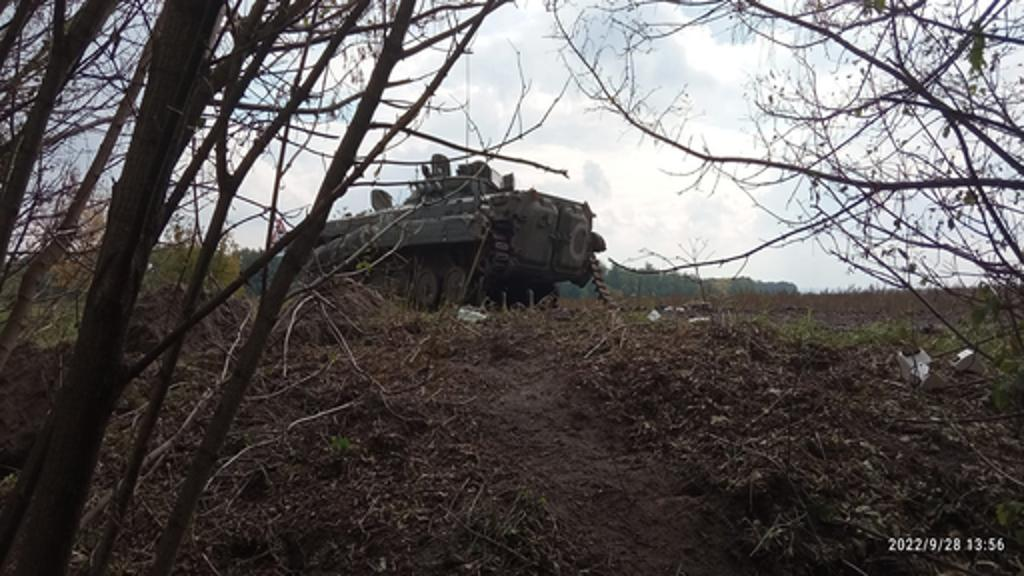APC-IFV: (270, 150, 604, 320)
